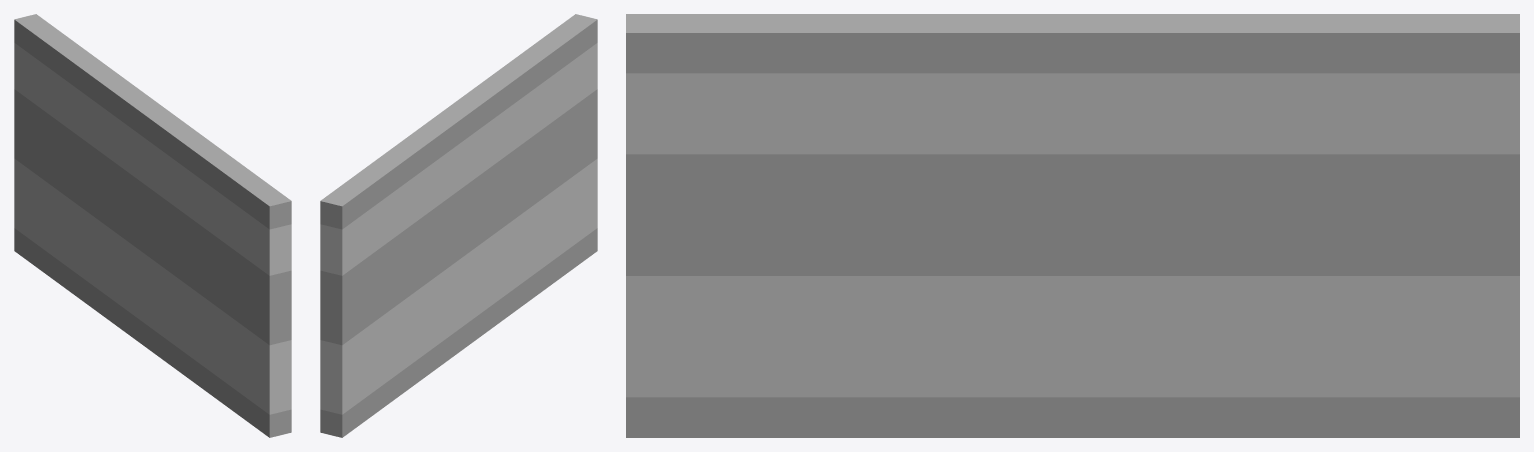
The model's file is dirt_wall_A_20.obj.
The picture shows the model from 3 angles, left to right: view 1: azimuth 30°, elevation 25°; view 2: azimuth 150°, elevation 25°; view 3: azimuth 270°, elevation 25°; orthographic projection. The views are drawn at different scales.
Bounding box in the file's own units: 0.1 × 1 × 2.
Materials: 1 (1 with a texture image).
